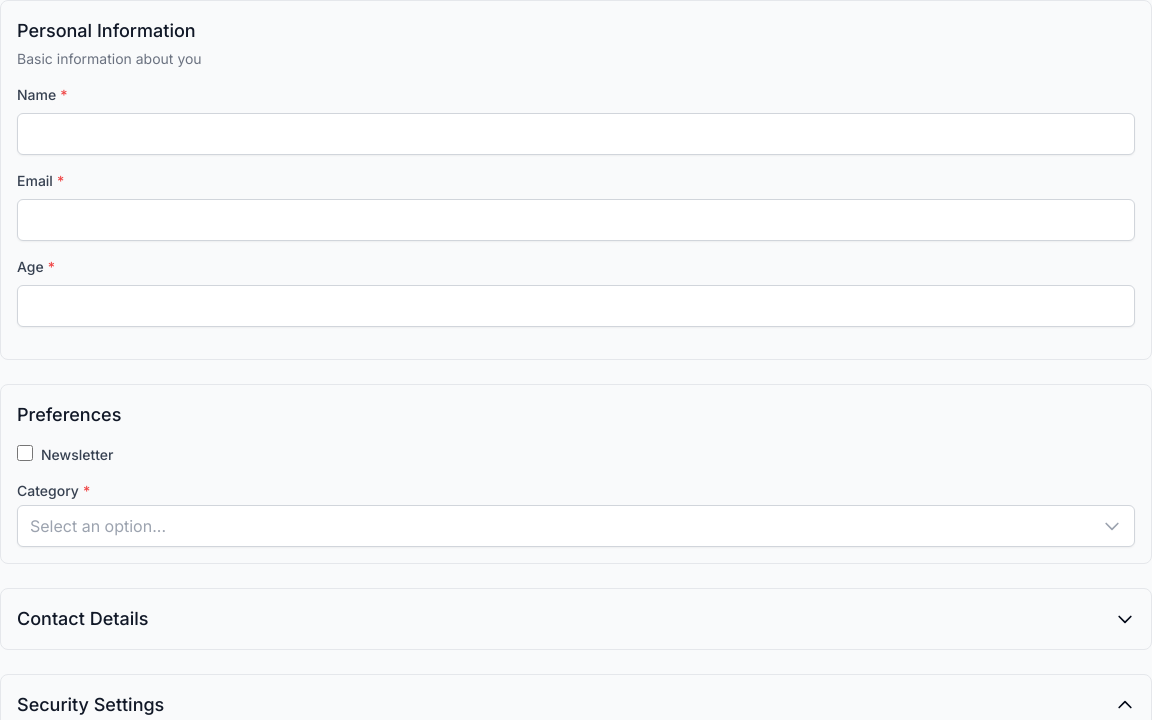
it: DynamicForm › supports collapsible sections
Expected: the field labelled "website" is not shown
# Click to expand
Click the heading "Contact Details": click(83, 619) 17,605 -> 148,633
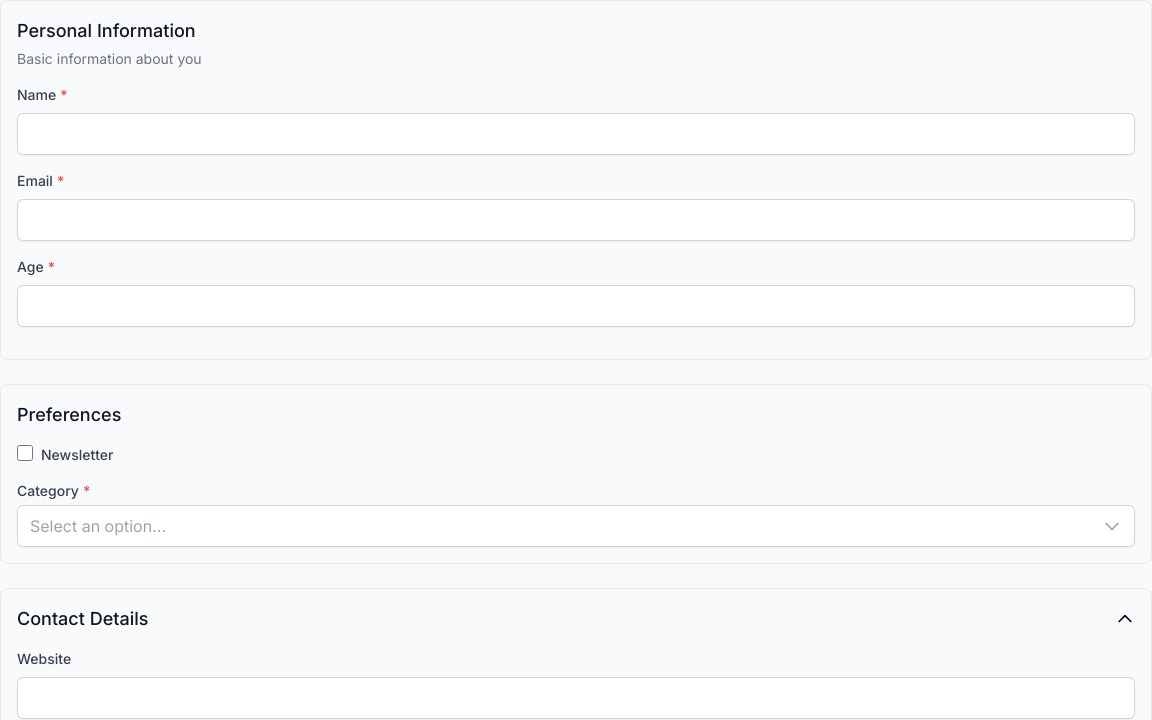
Expected: the field labelled "Website" is shown, 17,677 -> 1135,719
# Click to collapse
Click the heading "Contact Details": click(83, 619) 17,605 -> 148,633
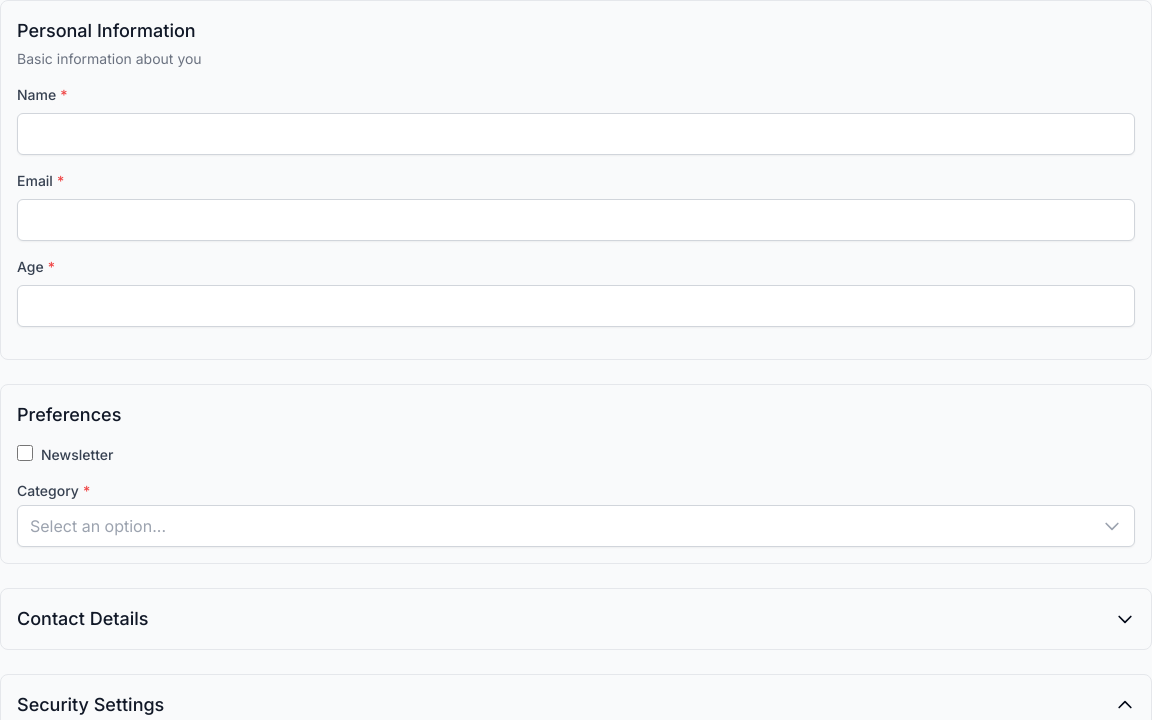
Expected: the label labelled "Website" is gone
